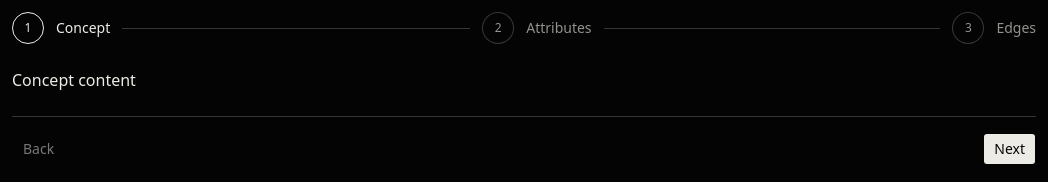
Test: MultiStepFlow › advances and goes back through the flow
The width and height of the screenshot is (1048, 182).
Click the button "Next" at (1010, 149), box x1=983 y1=133 x2=1036 y2=165
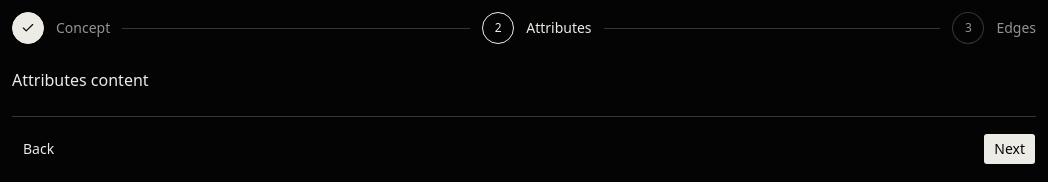
Check: the text "Attributes content" is shown, box x1=12 y1=69 x2=149 y2=91
Click the button "Concept" at (61, 28), box x1=12 y1=12 x2=110 y2=44
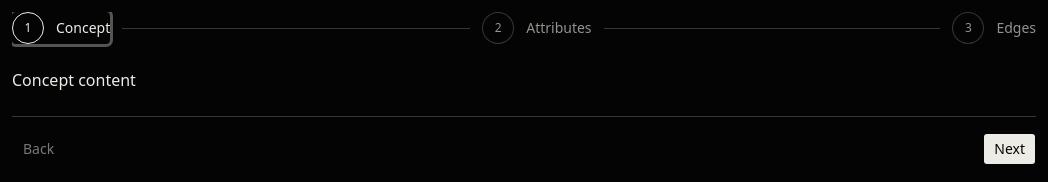
Check: the text "Concept content" is shown, box x1=12 y1=69 x2=136 y2=91
